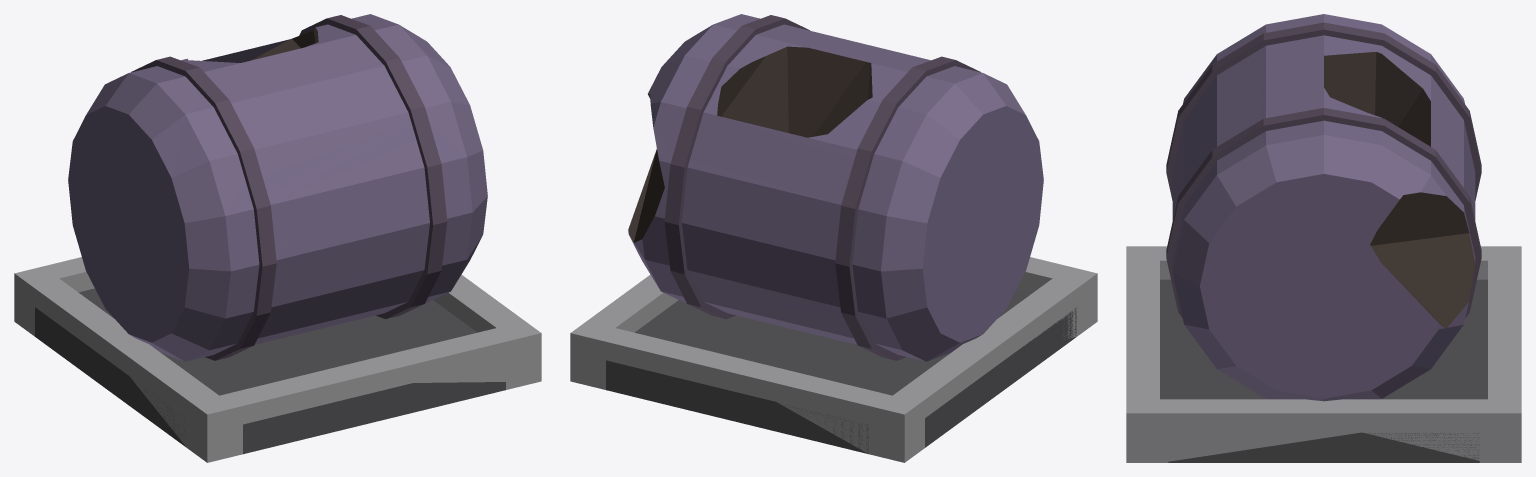
Rendered from vge_d_auxiliaryastrofueltank.obj.
The picture shows the model from 3 angles, left to right: view 1: azimuth 30°, elevation 25°; view 2: azimuth 150°, elevation 25°; view 3: azimuth 270°, elevation 25°; orthographic projection. The views are drawn at different scales.
Parts seen in each view (by area): view 1: vge_d_auxiliaryastrofueltank; view 2: vge_d_auxiliaryastrofueltank; view 3: vge_d_auxiliaryastrofueltank.
Boxes of the visible parts, bbox=[...] form: vge_d_auxiliaryastrofueltank: bbox=[14, 14, 541, 462]; vge_d_auxiliaryastrofueltank: bbox=[570, 14, 1097, 462]; vge_d_auxiliaryastrofueltank: bbox=[1126, 14, 1521, 462].
Size of the model in its own units: 0.94 by 0.815 by 0.94.
